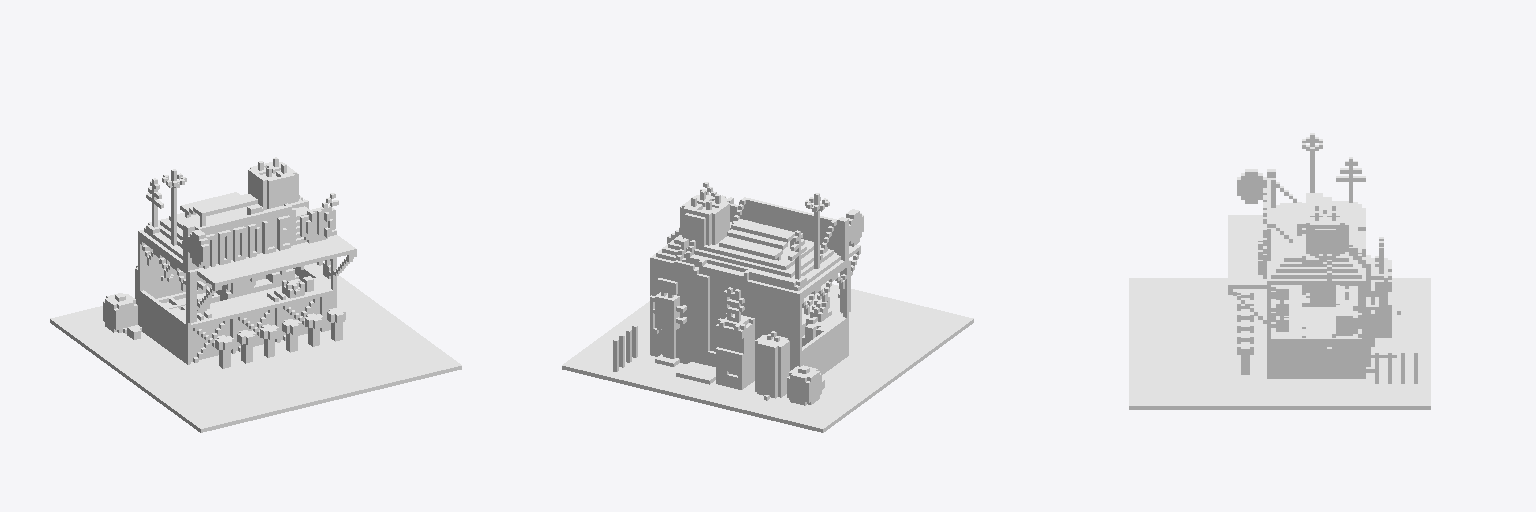
Rendered from noodleshop2.obj.
3 renders of one model, left to right at view 1: azimuth 30°, elevation 25°; view 2: azimuth 150°, elevation 25°; view 3: azimuth 270°, elevation 25°, orthographic.
Parts seen in each view (by area): view 1: noodleshop2; view 2: noodleshop2; view 3: noodleshop2.
Part boxes in pixels (left/top/right/bottom): noodleshop2: left=50, top=157, right=461, bottom=432; noodleshop2: left=562, top=182, right=973, bottom=432; noodleshop2: left=1129, top=133, right=1430, bottom=409.
Size of the model in its own units: 70 by 46 by 70.